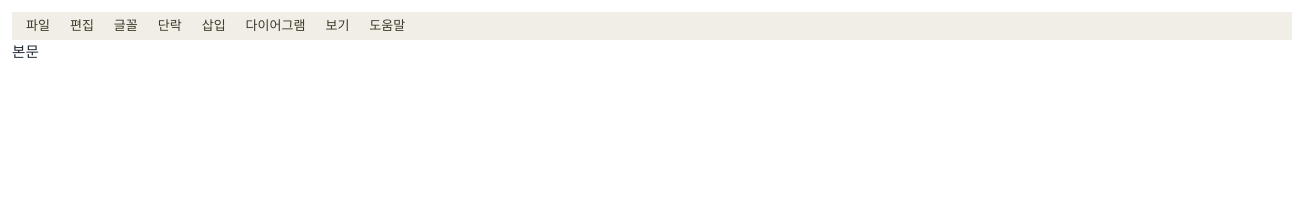
Test case: MenuBar › runs a 보기 item and closes the menu
Click the menu item "보기". click: (337, 26)
box: x1=315 y1=14 x2=359 y2=38
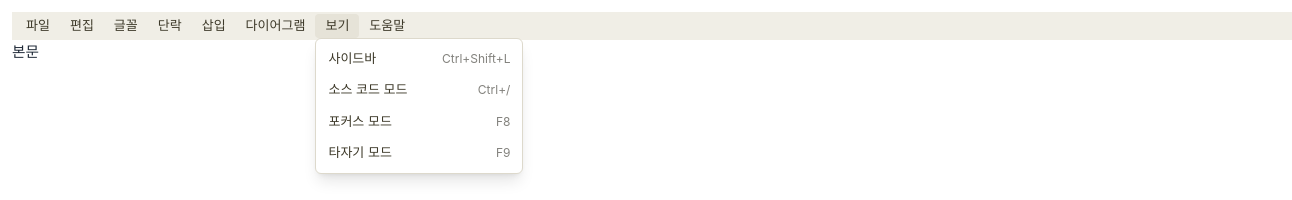
Click the menu item "포커스 모드 F8". click: (419, 122)
box: x1=316 y1=106 x2=522 y2=137
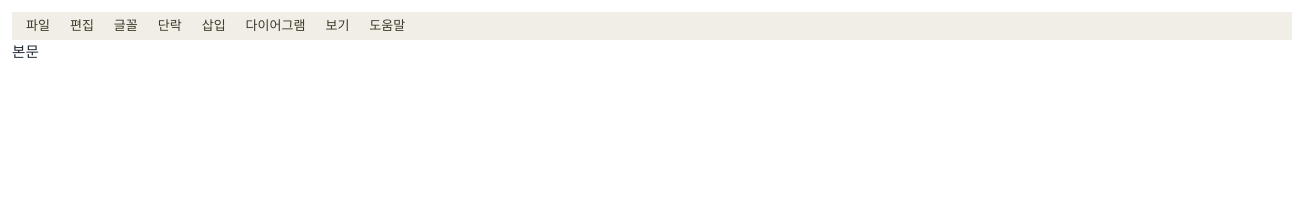
Now the menu is gone
